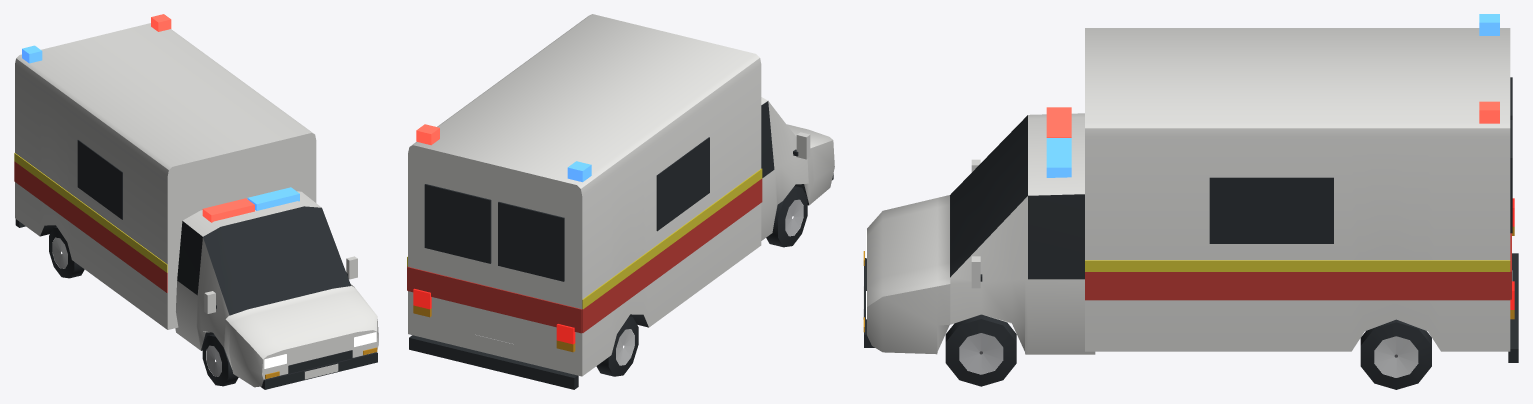
File: ambulance_lod1.glb
The picture shows the model from 3 angles, left to right: view 1: azimuth 30°, elevation 25°; view 2: azimuth 150°, elevation 25°; view 3: azimuth 270°, elevation 25°; orthographic projection. The views are drawn at different scales.
Parts seen in each view (by area): view 1: ambulance_lod1; view 2: ambulance_lod1; view 3: ambulance_lod1.
Part boxes in pixels (x1=…): ambulance_lod1: x1=14, y1=14, x2=378, y2=389; ambulance_lod1: x1=407, y1=14, x2=834, y2=389; ambulance_lod1: x1=863, y1=14, x2=1518, y2=389.
Size of the model in its own units: 0.1164 by 0.1495 by 0.3159.
